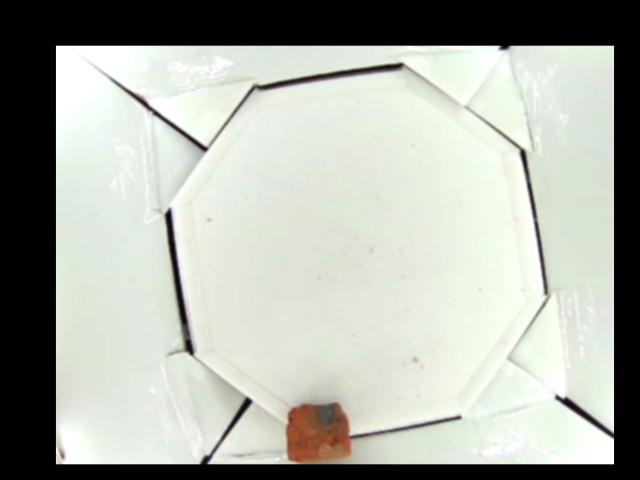Brisk: (287, 402, 350, 460)
